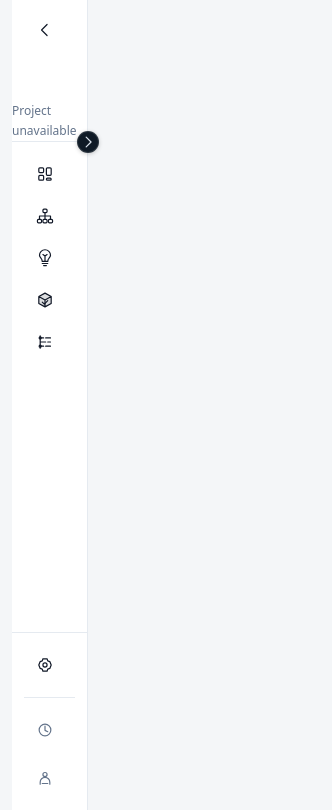
Test: V4 H2 shell contracts › C: opening a Minimal Project group shows the correct child flyout
Click the button named "Coordination" at [50, 216], box [24,196,75,236]
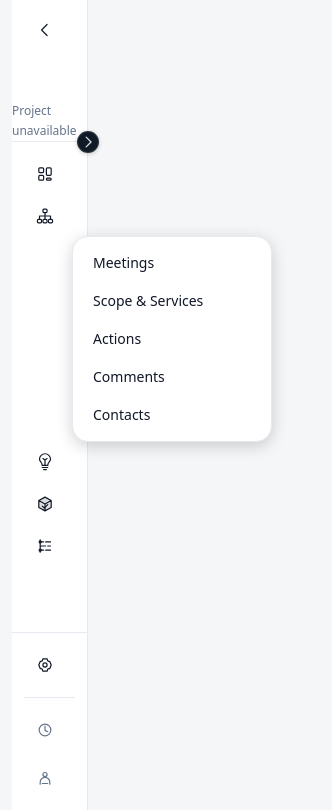
Check: the menu item "Actions" is shown, box [81,321,263,357]
